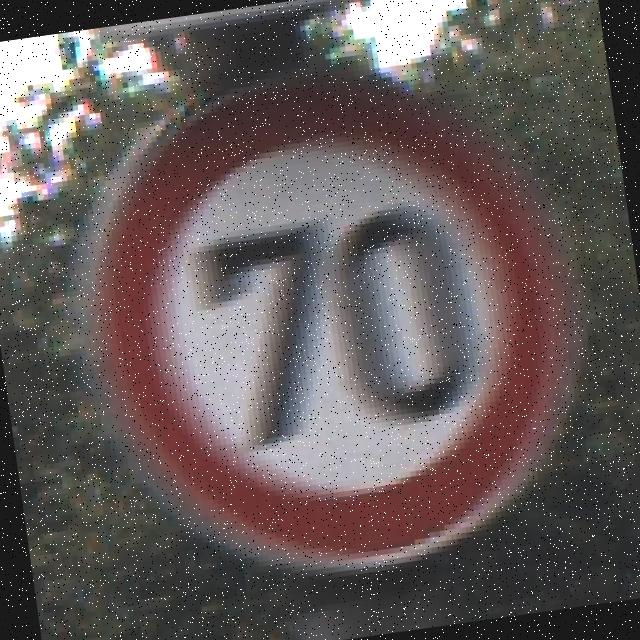Ograniczenie predkosci do 70: (66, 25, 598, 602)
